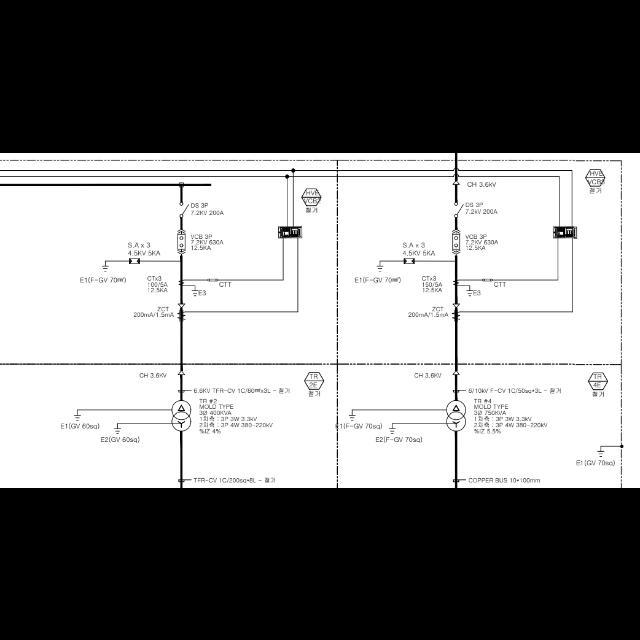CB: (452, 233, 460, 249), (178, 234, 185, 248)
CH: (452, 180, 460, 184), (452, 303, 460, 307), (452, 370, 460, 374), (178, 302, 185, 306), (178, 370, 185, 374)
CT: (178, 279, 184, 285), (453, 279, 459, 285)
GND: (100, 264, 110, 272), (388, 426, 397, 434), (191, 289, 199, 297), (376, 264, 384, 272), (466, 288, 474, 296), (114, 426, 122, 434), (74, 414, 82, 421), (348, 414, 356, 421), (597, 449, 605, 456)
LA: (128, 257, 140, 263), (404, 257, 414, 263)
ZCT: (452, 308, 460, 322), (177, 308, 186, 320)
ds: (179, 202, 189, 216), (454, 202, 464, 216)
